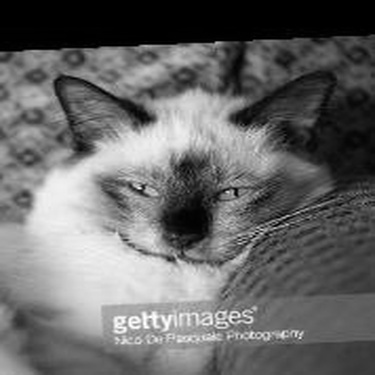cat: (5, 69, 343, 370)
